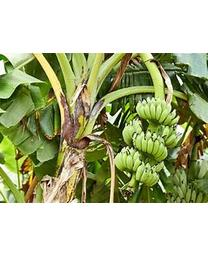banana: (115, 96, 181, 186)
